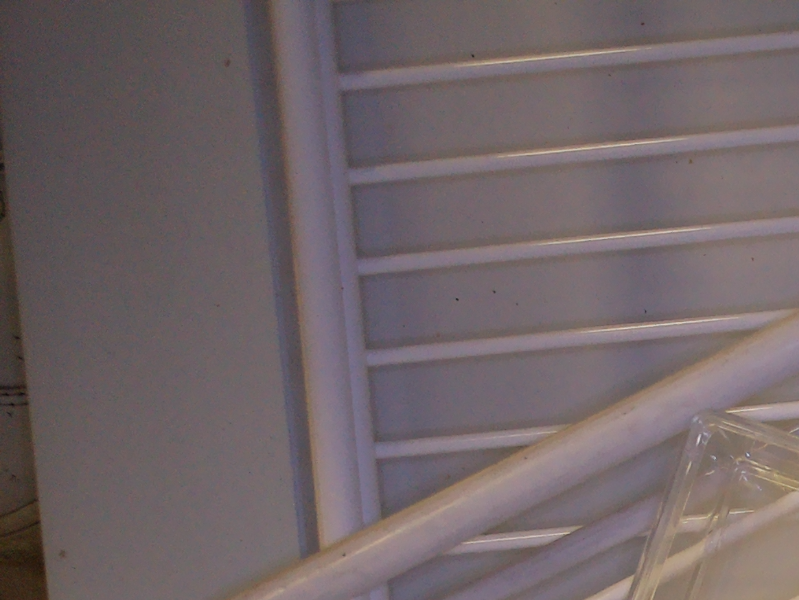plate: (622, 407, 799, 600)
